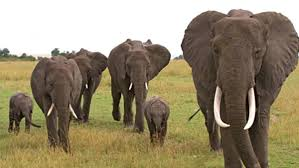Elephant: (175, 7, 298, 167)
